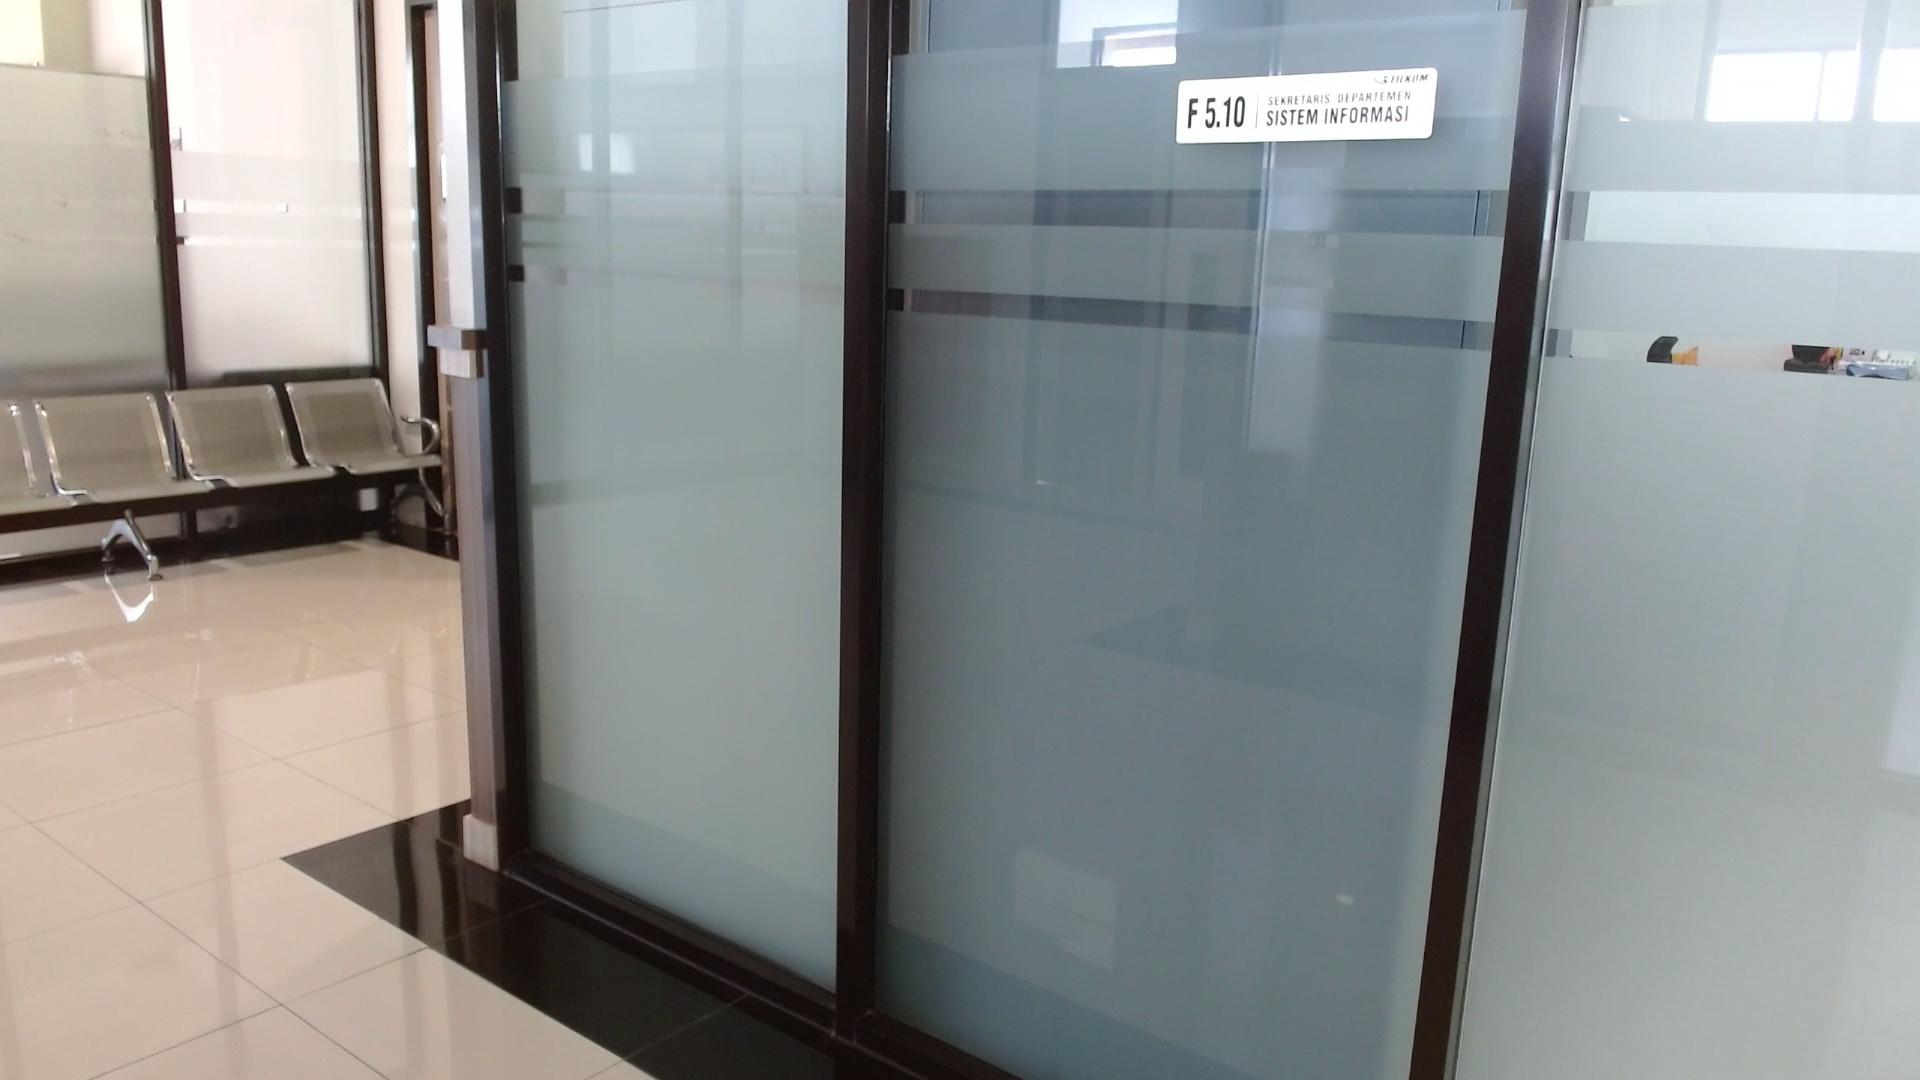plate: (1175, 67, 1440, 144)
